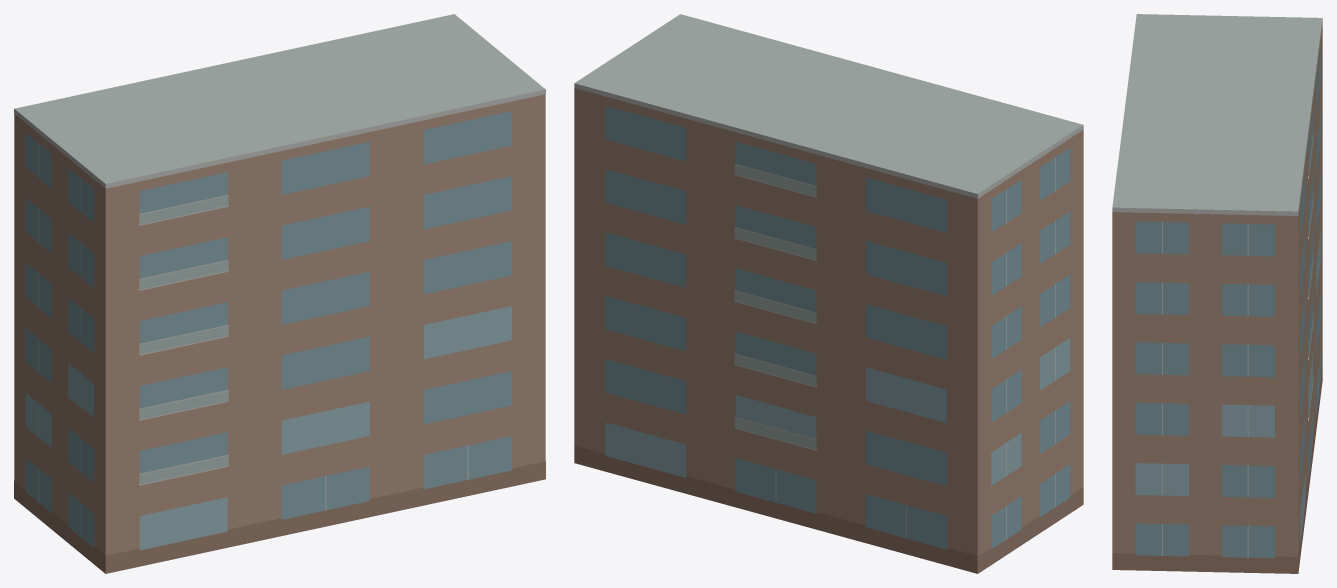
Rendered from survey-upis-32792392.glb.
3 views of the same model, side by side, from view 1: azimuth 30°, elevation 25°; view 2: azimuth 150°, elevation 25°; view 3: azimuth 270°, elevation 25° (orthographic). The views are drawn at different scales.
Visible parts, largest first — view 1: survey-upis-32792392.tmp; view 2: survey-upis-32792392.tmp; view 3: survey-upis-32792392.tmp.
Part boxes in pixels (left/top/right/bottom): survey-upis-32792392.tmp: left=14, top=14, right=545, bottom=573; survey-upis-32792392.tmp: left=574, top=14, right=1083, bottom=573; survey-upis-32792392.tmp: left=1112, top=14, right=1322, bottom=573.
Bounding box in the file's own units: 23.29 × 19.9 × 10.48.
